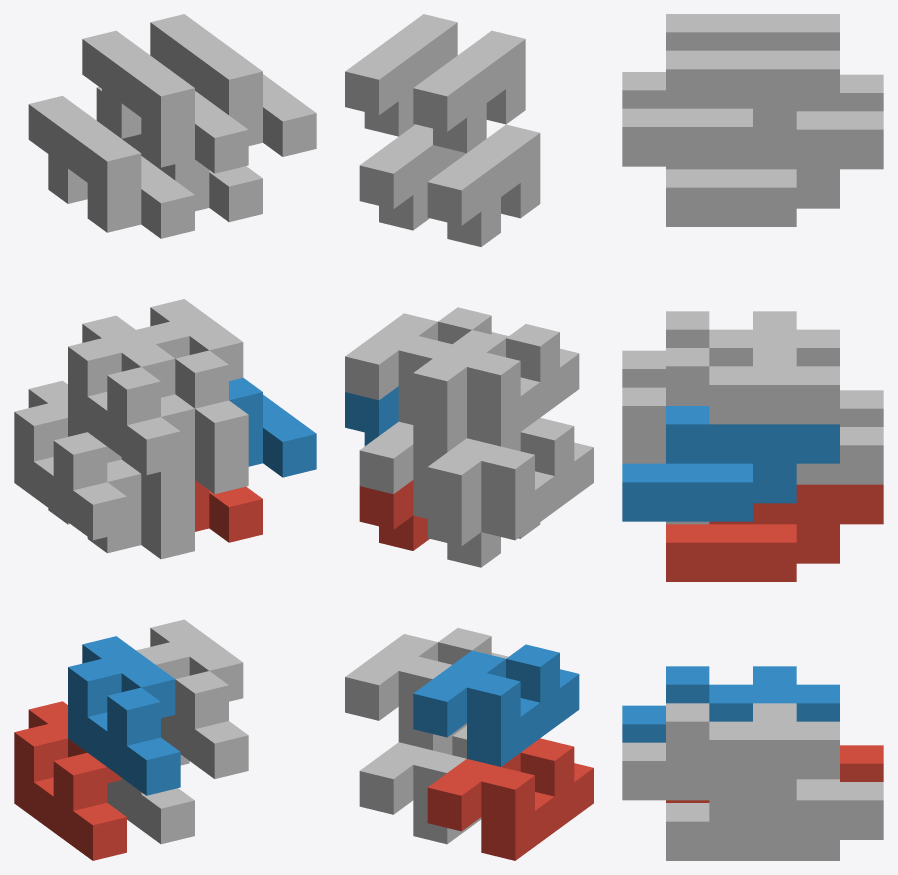
The model's file is tiling.obj.
The picture shows the model from 3 angles, left to right: view 1: azimuth 30°, elevation 25°; view 2: azimuth 150°, elevation 25°; view 3: azimuth 270°, elevation 25°; orthographic projection. The views are drawn at different scales.
Parts seen in each view (by area): view 1: copy_2_domain_3, copy_2_domain_4, copy_1_domain_2, copy_1_domain_4, copy_1_domain_3, copy_1_domain_1, copy_1_domain_6, copy_2_domain_8, copy_1_domain_8, copy_2_domain_6, copy_2_domain_7, copy_2_domain_1 (+4 smaller); view 2: copy_1_domain_2, copy_1_domain_4, copy_1_domain_1, copy_1_domain_3, copy_2_domain_3, copy_2_domain_4, copy_1_domain_6, copy_2_domain_8, copy_1_domain_8, copy_1_domain_5, copy_2_domain_7, copy_1_domain_7 (+4 smaller); view 3: copy_2_domain_8, copy_1_domain_6, copy_2_domain_6, copy_2_domain_7, copy_1_domain_5, copy_2_domain_5, copy_1_domain_8, copy_1_domain_2, copy_1_domain_4, copy_2_domain_4, copy_1_domain_7, copy_2_domain_3 (+3 smaller).
Boxes of the visible parts, x1,y1,x2,y2 form: copy_2_domain_3: (28, 96, 194, 238); copy_2_domain_4: (82, 30, 248, 173); copy_1_domain_2: (68, 636, 180, 795); copy_1_domain_4: (68, 315, 180, 475); copy_1_domain_3: (14, 380, 126, 540); copy_1_domain_1: (14, 701, 126, 860); copy_1_domain_6: (136, 619, 248, 778); copy_2_domain_8: (150, 14, 316, 156); copy_1_domain_8: (136, 299, 248, 458); copy_2_domain_6: (229, 377, 316, 477); copy_2_domain_7: (96, 87, 262, 222); copy_2_domain_1: (48, 459, 194, 559); copy_1_domain_2: (413, 644, 579, 766); copy_1_domain_4: (413, 324, 579, 446); copy_1_domain_1: (427, 738, 593, 860); copy_1_domain_3: (427, 418, 593, 540); copy_2_domain_3: (427, 124, 540, 246); copy_2_domain_4: (413, 30, 525, 153); copy_1_domain_6: (345, 628, 508, 750); copy_2_domain_8: (345, 14, 457, 136); copy_1_domain_8: (345, 307, 508, 424); copy_1_domain_5: (359, 725, 481, 844); copy_2_domain_7: (359, 124, 466, 230); copy_1_domain_7: (359, 421, 446, 518); copy_2_domain_8: (622, 50, 839, 166); copy_1_domain_6: (622, 703, 839, 800); copy_2_domain_6: (622, 406, 839, 521); copy_2_domain_7: (666, 111, 883, 226); copy_1_domain_5: (666, 779, 883, 860); copy_2_domain_5: (666, 484, 883, 581); copy_1_domain_8: (622, 348, 839, 445); copy_1_domain_2: (622, 666, 839, 742); copy_1_domain_4: (622, 311, 839, 387); copy_2_domain_4: (622, 14, 839, 108); copy_1_domain_7: (796, 427, 883, 484); copy_2_domain_3: (666, 74, 883, 169).
Bounding box in the file's own units: 6 × 21 × 6.
